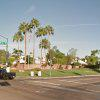Palm tree: (12, 12, 64, 67)
